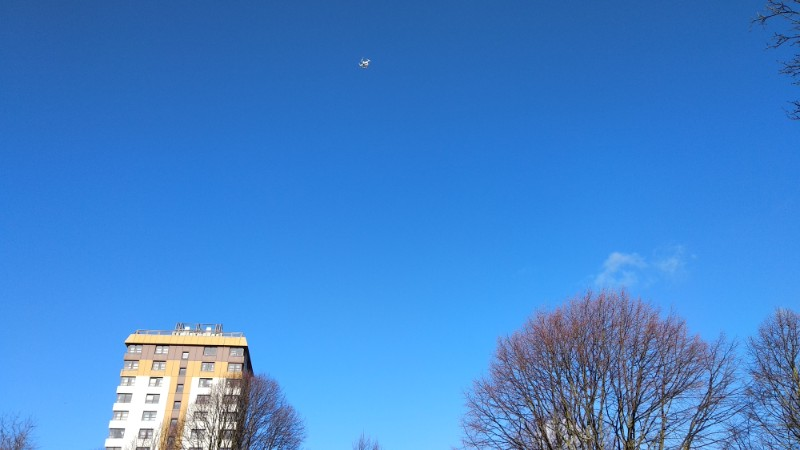drone: (357, 56, 371, 69)
